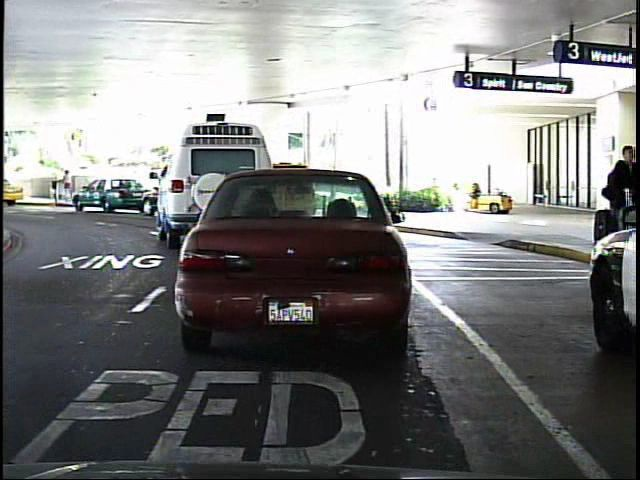person: (600, 138, 637, 254), (61, 165, 75, 203), (62, 162, 63, 201)
